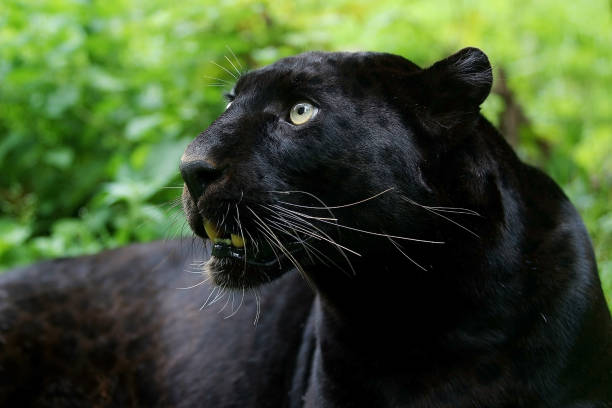panther: (161, 43, 507, 312)
